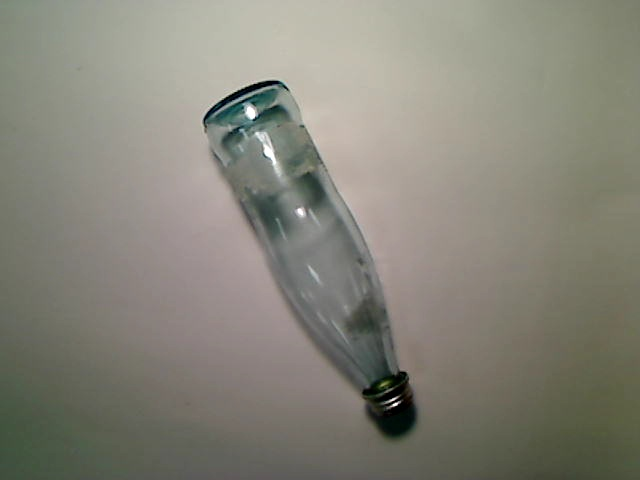bottle: (203, 80, 415, 417)
